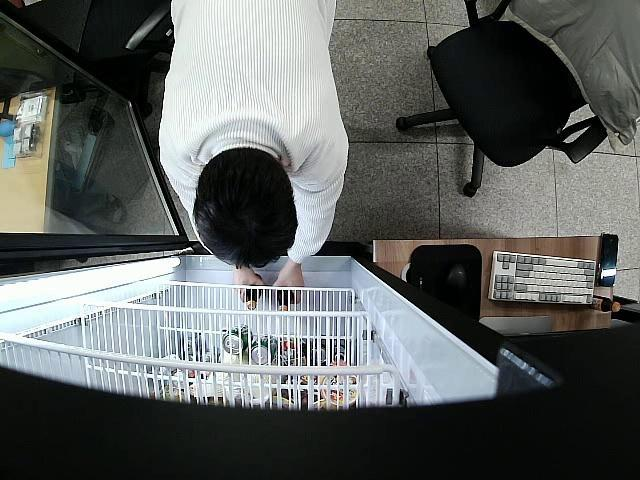17_vita500: (242, 274, 264, 310), (276, 288, 294, 311)
